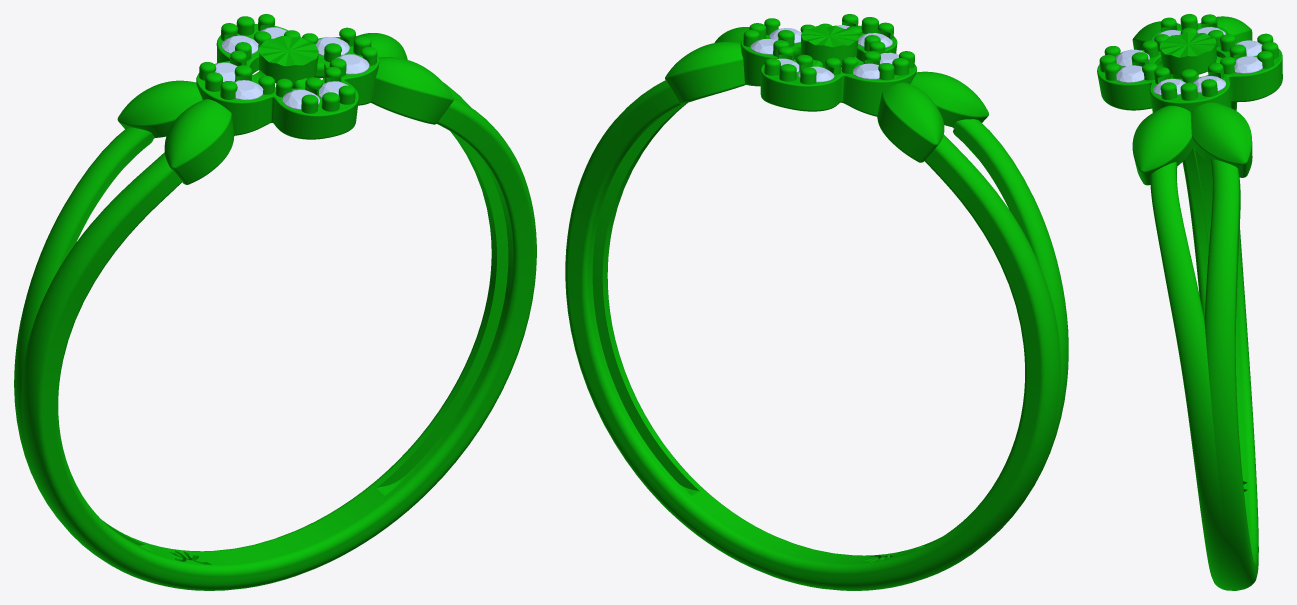
3 renders of one model, left to right at view 1: azimuth 30°, elevation 25°; view 2: azimuth 150°, elevation 25°; view 3: azimuth 270°, elevation 25°, orthographic. The views are drawn at different scales.
Parts seen in each view (by area): view 1: f.3dm; view 2: f.3dm; view 3: f.3dm.
Boxes of the visible parts, x1=… form: f.3dm: x1=14, y1=14, x2=536, y2=590; f.3dm: x1=565, y1=14, x2=1068, y2=590; f.3dm: x1=1097, y1=14, x2=1282, y2=590.
Size of the model in its own units: 2.7 by 2.81 by 0.903.
